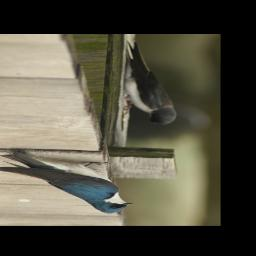Swallow: (0, 152, 132, 214)
